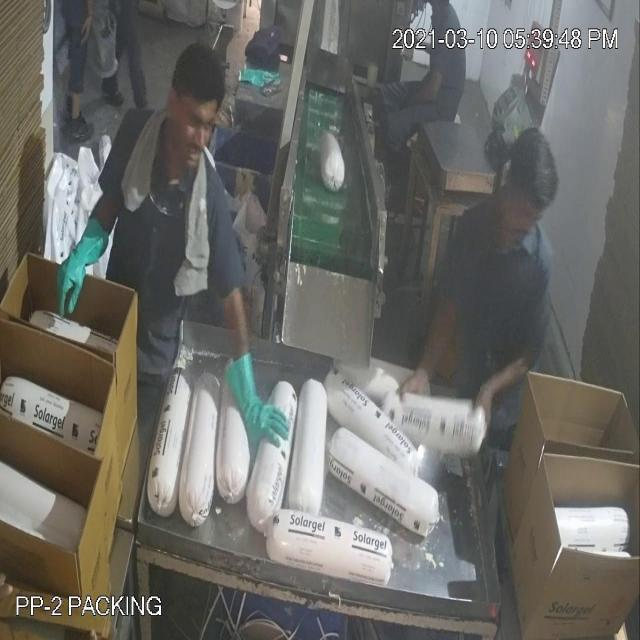Gloves: (68, 95, 507, 404)
